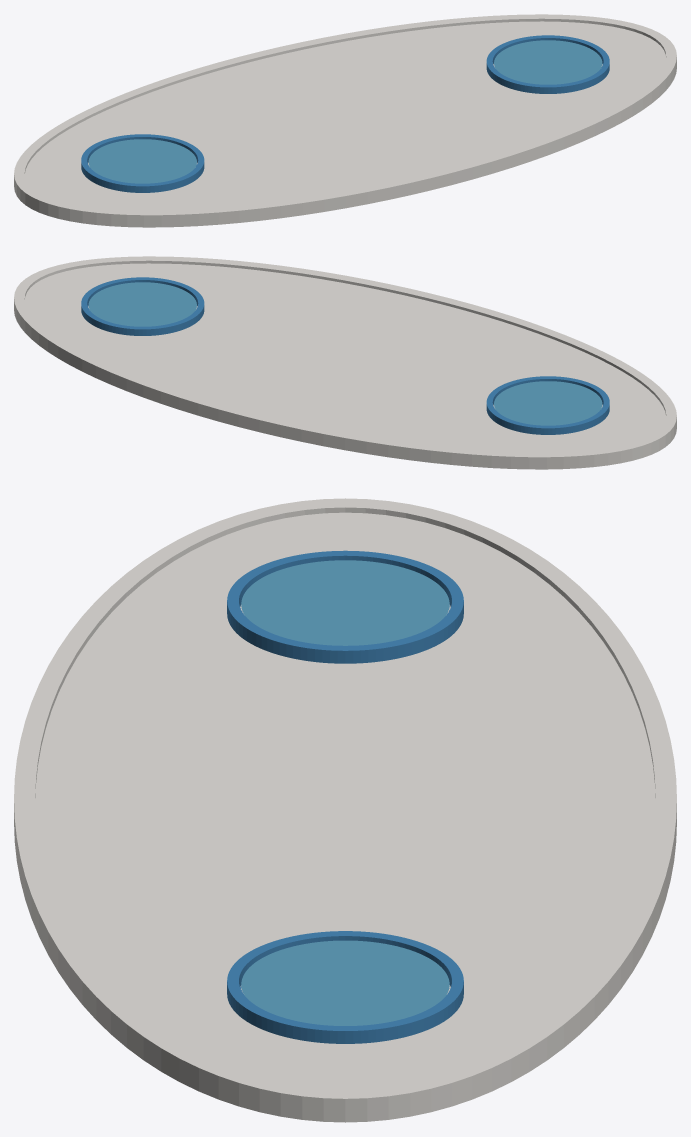
File: obelisco-ovalo.glb
3 renders of one model, top to bottom at view 1: azimuth 30°, elevation 25°; view 2: azimuth 150°, elevation 25°; view 3: azimuth 270°, elevation 25°, orthographic. The views are drawn at different scales.
Visible parts, largest first — view 1: isla, fuente-oeste-agua, fuente-este-agua, fuente-este, fuente-oeste; view 2: isla, fuente-oeste-agua, fuente-este-agua, fuente-este, fuente-oeste; view 3: isla, fuente-oeste-agua, fuente-este-agua, fuente-oeste, fuente-este.
Boxes of the visible parts, box(x1,y1,x2,y2) form: isla: box(14, 14, 676, 227); fuente-oeste-agua: box(88, 139, 196, 183); fuente-este-agua: box(494, 40, 602, 84); fuente-este: box(486, 35, 609, 93); fuente-oeste: box(81, 134, 204, 192); isla: box(14, 256, 676, 469); fuente-oeste-agua: box(494, 381, 602, 425); fuente-este-agua: box(88, 282, 196, 326); fuente-este: box(81, 277, 204, 335); fuente-oeste: box(486, 376, 609, 434); isla: box(14, 498, 676, 1122); fuente-oeste-agua: box(241, 560, 449, 645); fuente-este-agua: box(241, 940, 449, 1025); fuente-oeste: box(227, 550, 463, 663); fuente-este: box(227, 931, 463, 1043).
Bounding box in the file's own units: 30 × 0.73 × 14.
